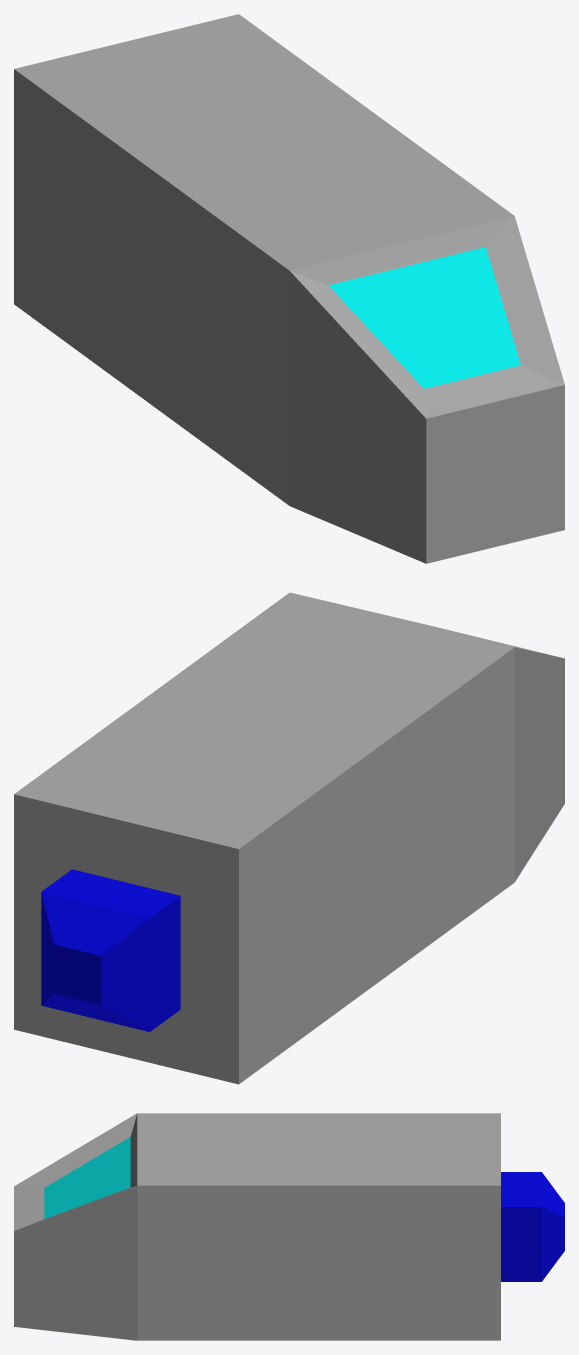
File: Hi-SpeedTrain.fbx
The picture shows the model from 3 angles, top to bottom: view 1: azimuth 30°, elevation 25°; view 2: azimuth 150°, elevation 25°; view 3: azimuth 270°, elevation 25°; orthographic projection. The views are drawn at different scales.
Visible parts, largest first — view 1: pCube1; view 2: pCube1; view 3: pCube1.
Part boxes in pixels (left/top/right/bottom): pCube1: left=14, top=14, right=564, bottom=563; pCube1: left=14, top=592, right=564, bottom=1084; pCube1: left=14, top=1113, right=564, bottom=1340.
Bounding box in the file's own units: 1 × 1 × 3.22.
